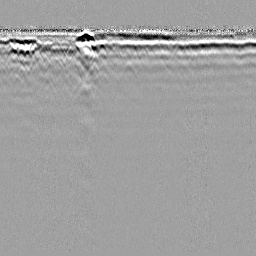cavity: (116, 58, 140, 84)
